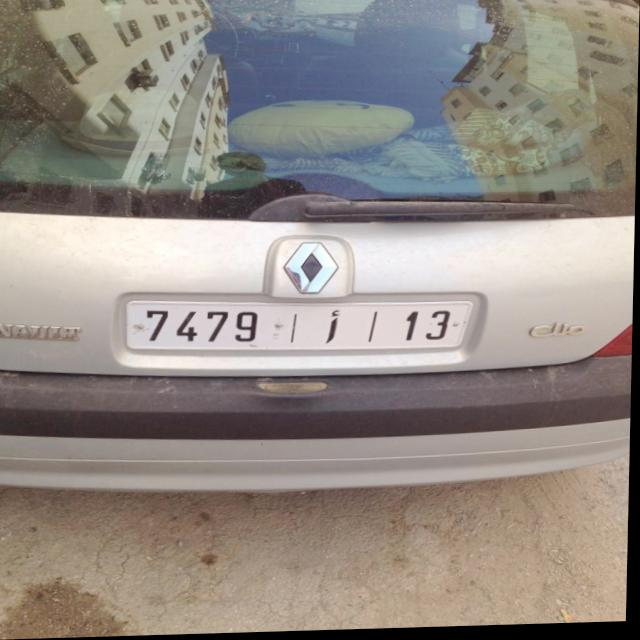License-Plate: (127, 301, 474, 353)
